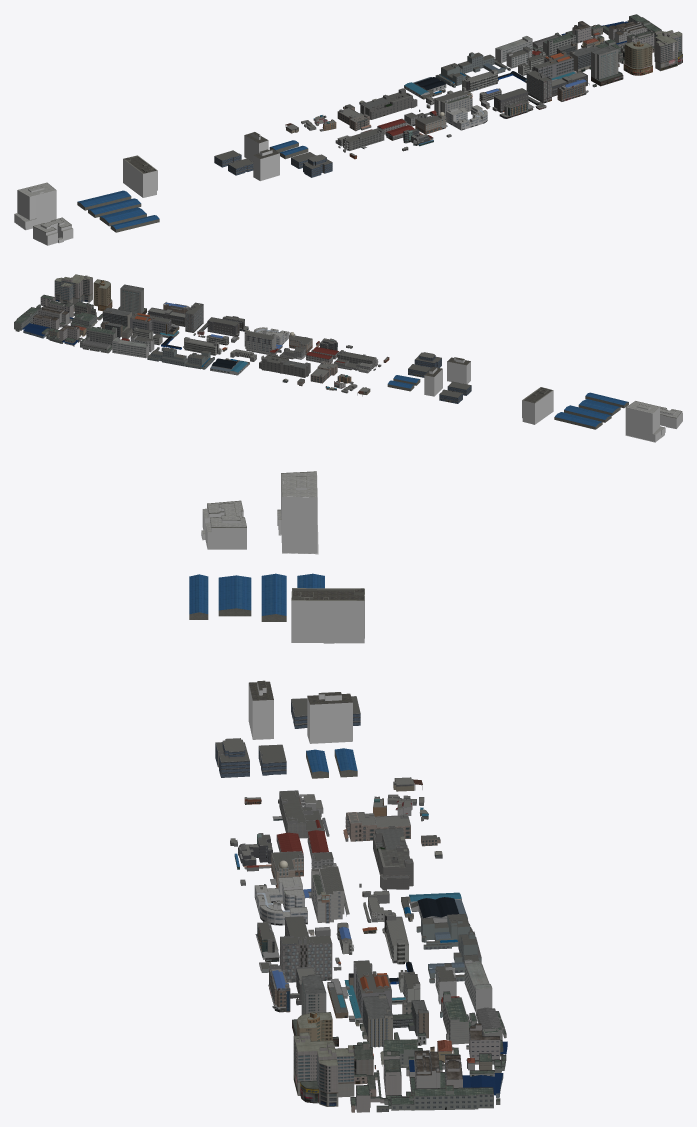
The model's file is kjz001.gltf.
3 views of the same model, one above another, from view 1: azimuth 30°, elevation 25°; view 2: azimuth 150°, elevation 25°; view 3: azimuth 270°, elevation 25° (orthographic). The views are drawn at different scales.
Parts seen in each view (by area): view 1: kjz001; view 2: kjz001; view 3: kjz001.
Boxes of the visible parts, x1,y1,x2,y2 form: kjz001: (14,14,682,245); kjz001: (14,274,682,442); kjz001: (189,471,507,1112).
Bounding box in the file's own units: 137 × 6.34 × 31.24.
